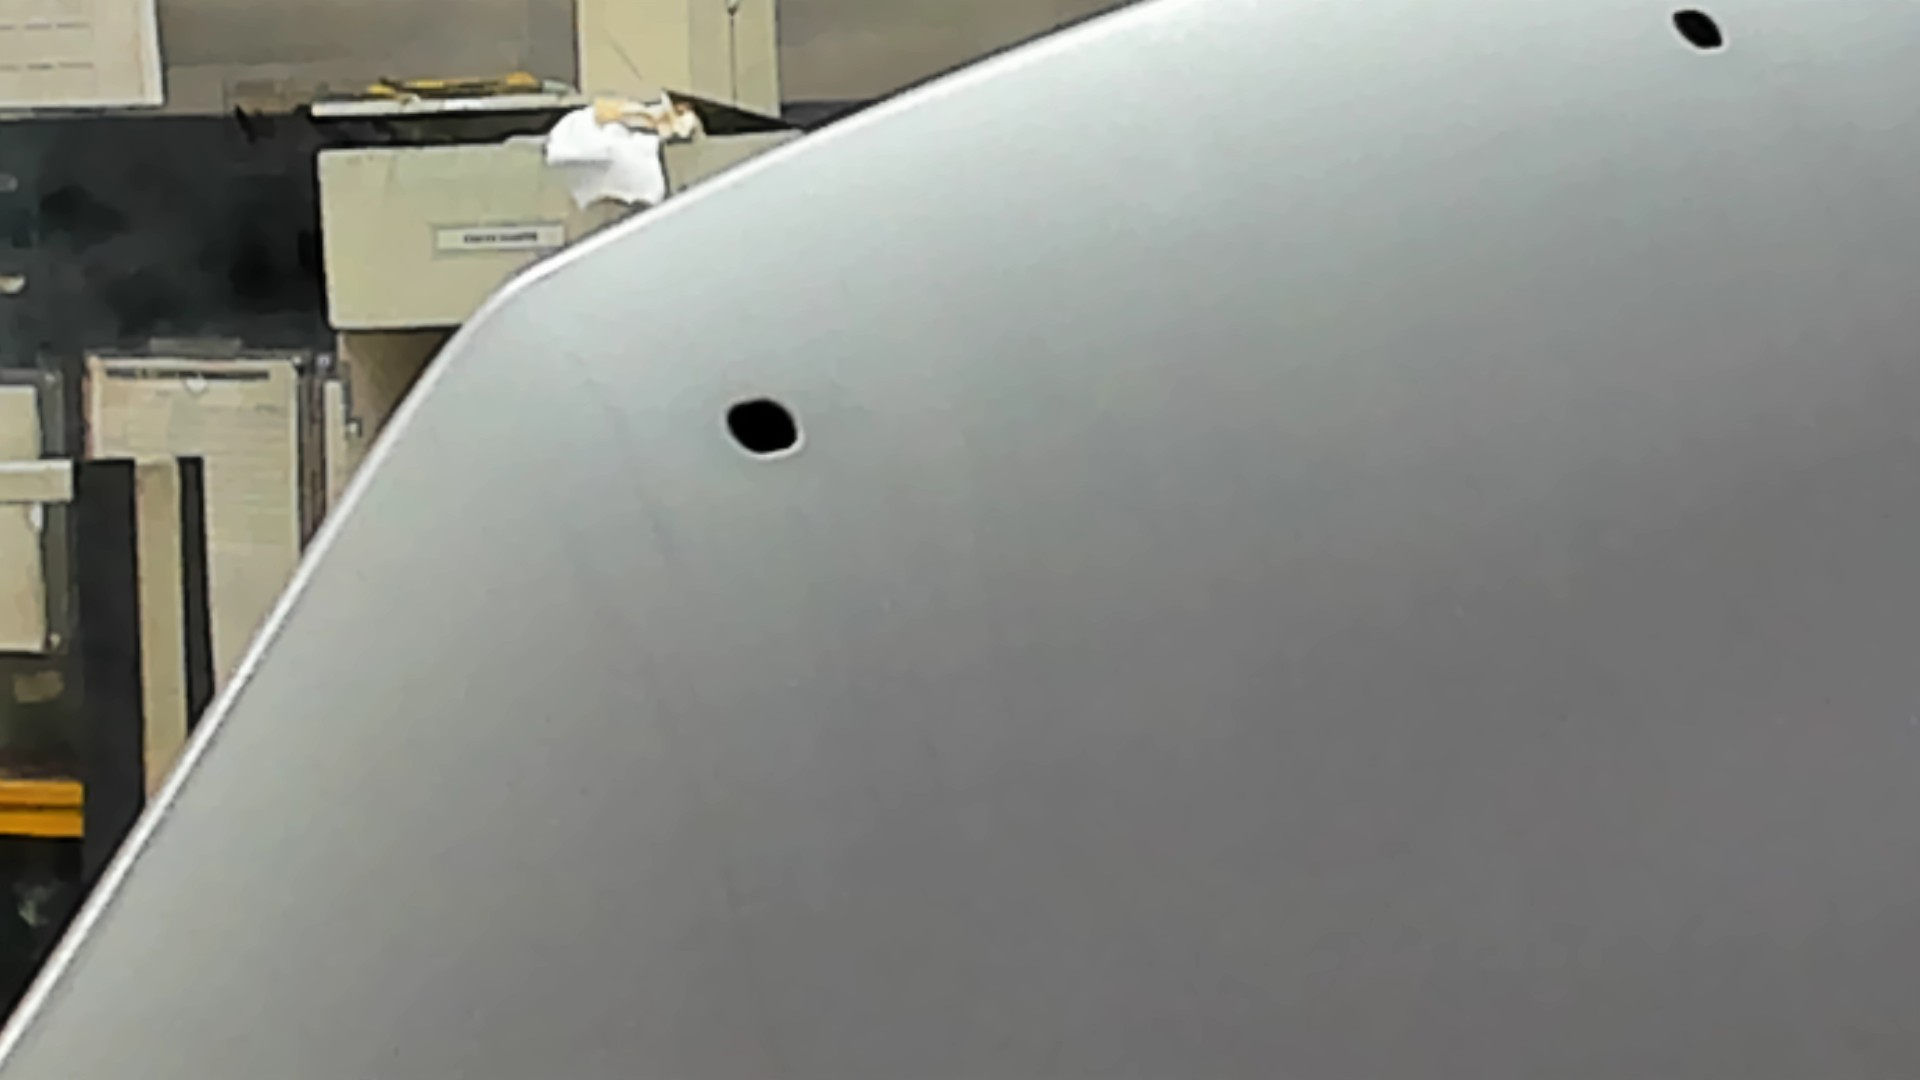Agujero: (716, 390, 808, 462), (1664, 3, 1733, 55)
